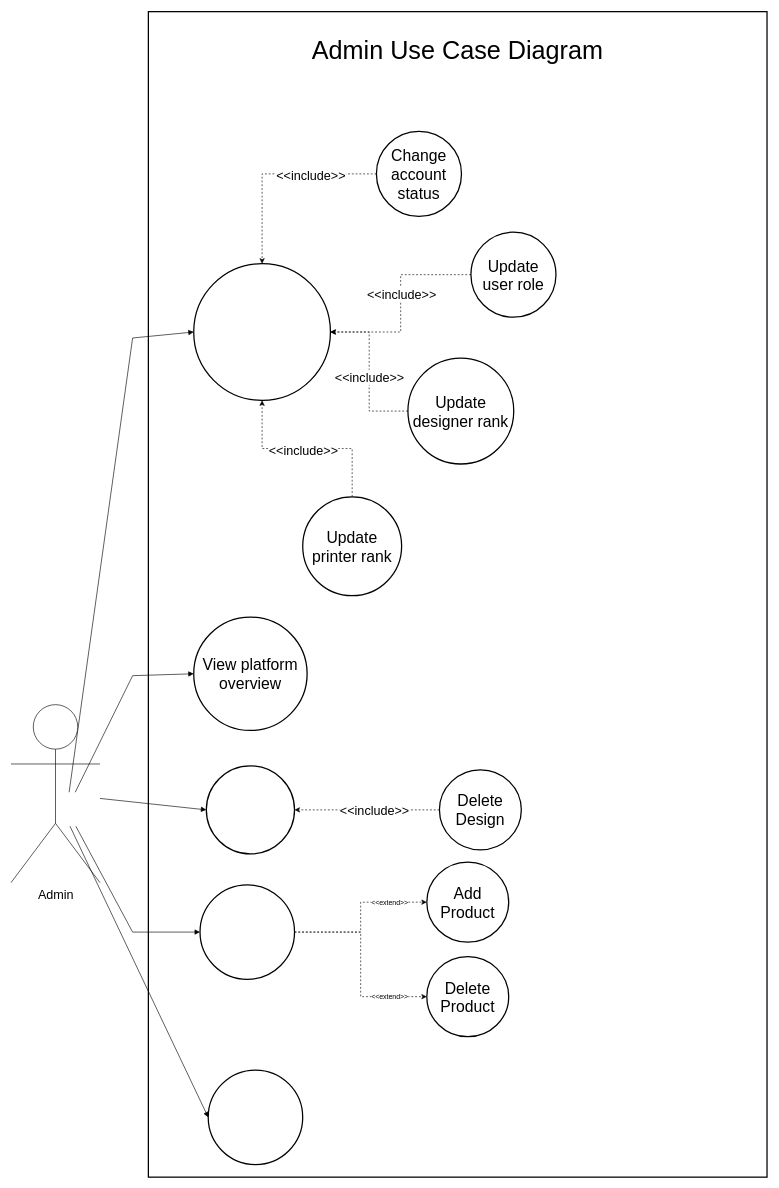
Image size: 779x1188. Some labels were removed from this diagram. Each missing label, with the centre of its shape:
"Manage users" goes at point 262,332.
"Monitor system health" goes at point 255,1117.
"Supervise designs" goes at point 250,809.
"Supervise products" goes at point 247,932.
